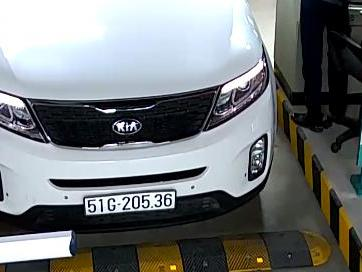number: (85, 191, 175, 216)
